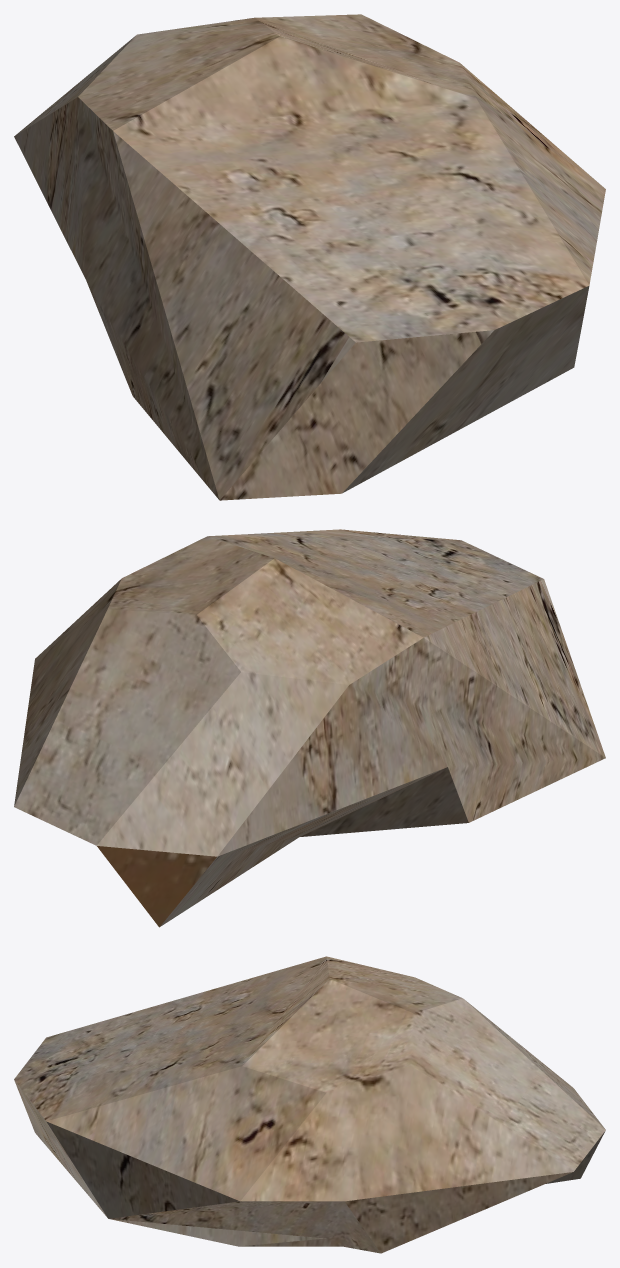
File: roccia_2.glb
The picture shows the model from 3 angles, top to bottom: view 1: azimuth 30°, elevation 25°; view 2: azimuth 150°, elevation 25°; view 3: azimuth 270°, elevation 25°; orthographic projection. The views are drawn at different scales.
Parts seen in each view (by area): view 1: Icosphere; view 2: Icosphere; view 3: Icosphere.
Part boxes in pixels (<box>): Icosphere: <box>14,14,605,500</box>; Icosphere: <box>14,529,605,927</box>; Icosphere: <box>14,956,605,1253</box>.
Bounding box in the file's own units: 2.44 × 1.41 × 3.51.
Materials: 1 (1 with a texture image).
